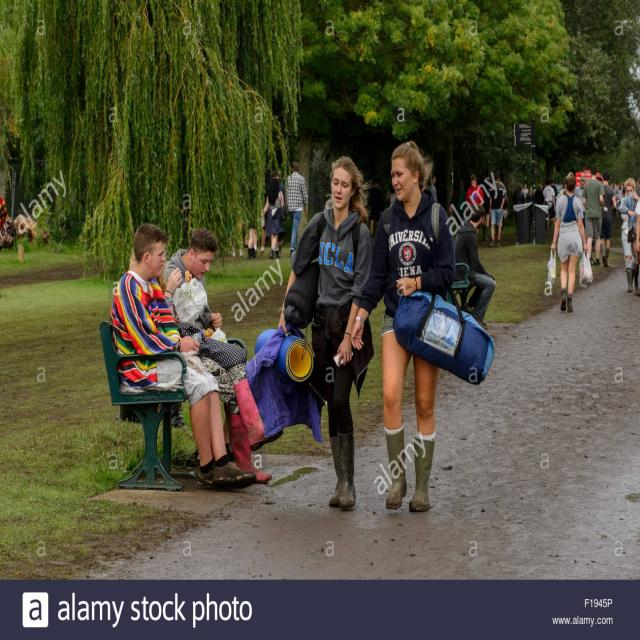body: (352, 138, 458, 513), (109, 219, 257, 487), (127, 242, 272, 485), (276, 154, 374, 510), (166, 227, 238, 465), (546, 171, 593, 313), (452, 204, 499, 331), (284, 157, 310, 260), (1, 207, 42, 263), (584, 165, 606, 268), (620, 177, 637, 295), (228, 215, 268, 259), (486, 171, 508, 248), (600, 171, 616, 267), (489, 168, 507, 237), (270, 170, 284, 258), (387, 174, 403, 238), (542, 178, 557, 224), (513, 184, 526, 235), (574, 177, 586, 230), (465, 174, 483, 207), (635, 197, 640, 296), (548, 178, 558, 223), (525, 185, 535, 228), (368, 195, 377, 238), (634, 177, 640, 234), (533, 181, 546, 205), (612, 181, 618, 221), (520, 182, 530, 203), (431, 174, 438, 204), (483, 195, 489, 227), (618, 183, 626, 197), (559, 182, 566, 195), (622, 180, 626, 198), (608, 180, 615, 189)
